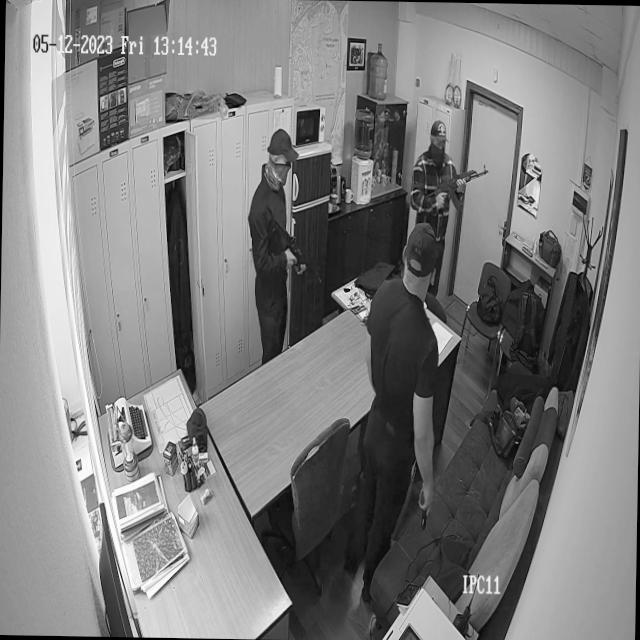gun: (436, 163, 488, 200), (280, 222, 308, 278), (417, 486, 432, 530)
person with a gun: (366, 230, 441, 552), (248, 129, 294, 350), (411, 120, 454, 239)
